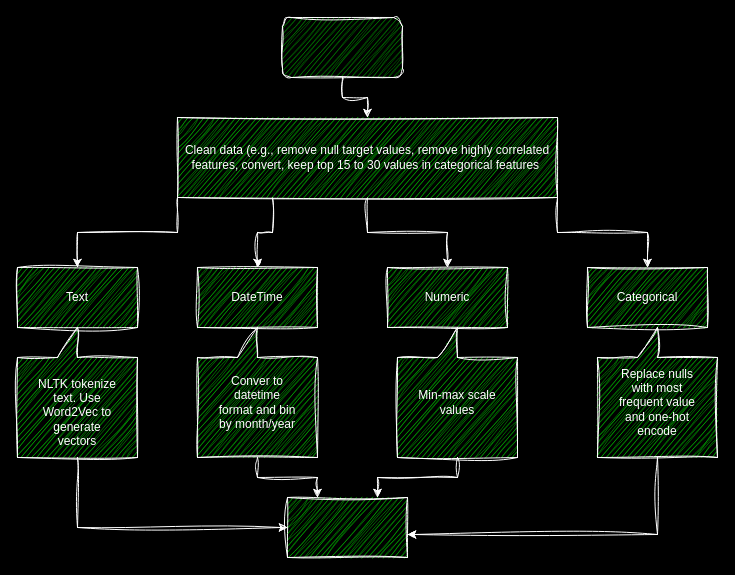
This 735x575 diagram has some shape labels left out. Each missing label, with the centre of its shape:
"Processed Data" belongs at (x=347, y=527).
"Raw Data" belongs at (x=342, y=47).
